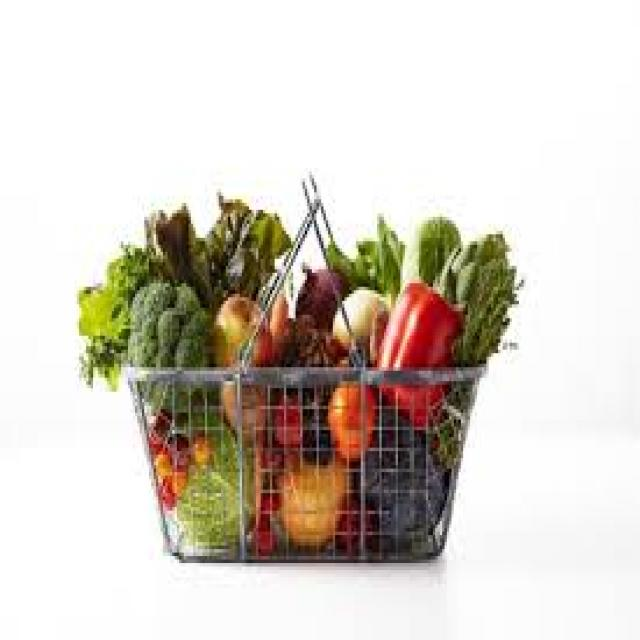organic waste: (424, 231, 521, 468), (375, 241, 463, 430), (142, 192, 291, 301), (77, 242, 170, 388), (168, 395, 254, 546), (354, 413, 442, 549), (128, 280, 214, 406), (272, 451, 354, 546), (323, 217, 402, 297), (324, 371, 374, 462), (147, 406, 190, 507), (328, 284, 389, 354), (210, 286, 268, 356), (282, 307, 342, 363), (216, 378, 268, 433), (417, 213, 456, 280), (294, 262, 344, 312), (268, 388, 310, 444), (332, 493, 374, 542), (268, 287, 296, 360), (249, 479, 277, 546), (186, 430, 210, 465)
